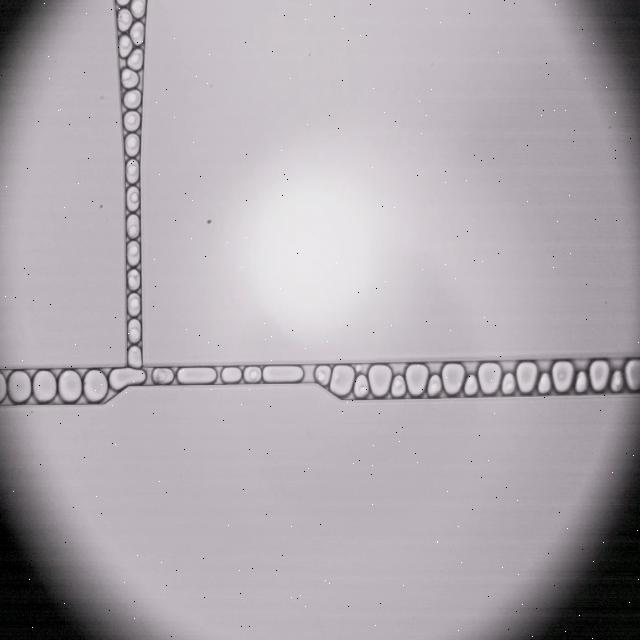L: (353, 374, 369, 398), (314, 365, 331, 386), (117, 9, 133, 31), (125, 133, 139, 157), (127, 241, 140, 266), (123, 90, 141, 108), (122, 69, 139, 88), (130, 22, 144, 45), (127, 293, 141, 316), (153, 368, 173, 384), (221, 367, 241, 383), (127, 49, 142, 70), (126, 159, 139, 183), (126, 214, 139, 238), (128, 346, 142, 368), (391, 375, 405, 397), (243, 366, 261, 383), (124, 111, 140, 130), (127, 186, 139, 211), (128, 319, 141, 342), (464, 374, 478, 395), (119, 35, 132, 57), (428, 374, 441, 396), (610, 370, 623, 392), (502, 373, 515, 394), (127, 270, 140, 290), (131, 0, 145, 18), (538, 373, 550, 394), (575, 371, 587, 392)
S: (83, 369, 108, 402), (110, 368, 145, 390), (368, 365, 392, 397), (8, 370, 31, 403), (33, 370, 56, 402), (58, 370, 81, 402), (478, 362, 501, 394), (330, 365, 354, 395), (405, 364, 428, 395), (442, 363, 465, 394), (552, 361, 574, 392), (263, 366, 303, 383), (177, 367, 216, 384), (516, 362, 537, 392), (589, 360, 609, 391), (624, 359, 640, 391), (0, 372, 6, 402)
